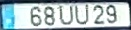2: (90, 3, 105, 25)
6: (28, 5, 42, 27)
8: (42, 5, 56, 26)
9: (105, 3, 117, 24)
U: (57, 5, 74, 26), (74, 4, 89, 26)
